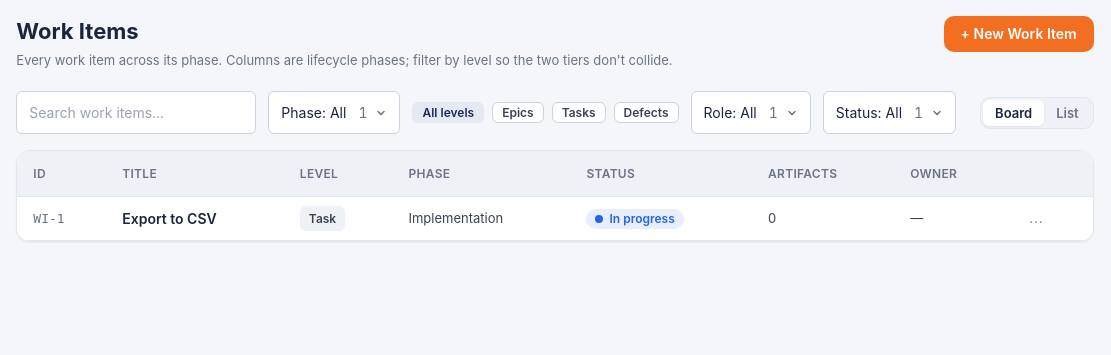
Test case: the list view's row menu › closes on Escape
Click the button named "Actions for WI-1".
click(1036, 218)  # box [1021, 210, 1052, 227]
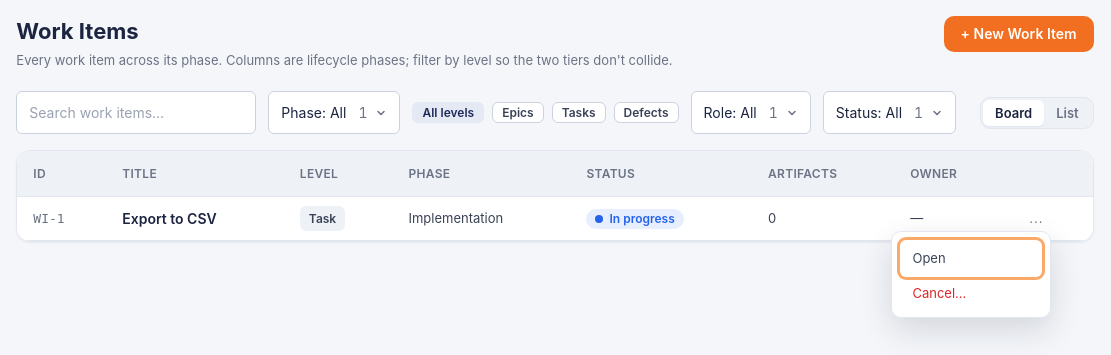
Expected: the menu is shown, [891, 231, 1051, 318]
Press Escape
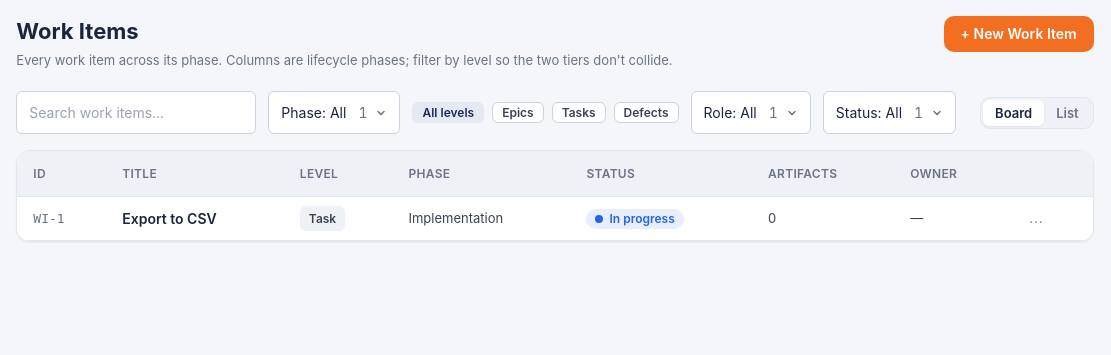
Expected: the menu is gone
